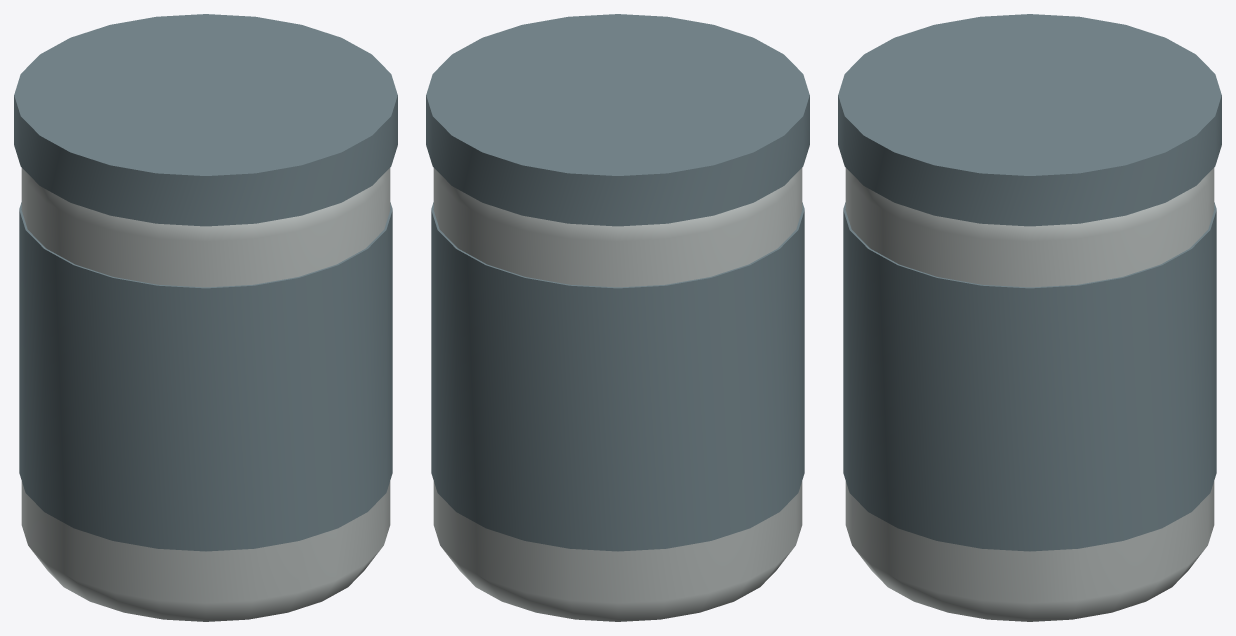
Rendered from protein-tub.glb.
The picture shows the model from 3 angles, left to right: view 1: azimuth 30°, elevation 25°; view 2: azimuth 150°, elevation 25°; view 3: azimuth 270°, elevation 25°; orthographic projection.
Parts seen in each view (by area): view 1: label_band, screw_lid, tub; view 2: label_band, screw_lid, tub; view 3: label_band, screw_lid, tub.
Boxes of the visible parts, x1,y1,x2,y2 form: label_band: [19, 202, 392, 551]; screw_lid: [14, 14, 397, 226]; tub: [21, 168, 390, 621]; label_band: [431, 202, 804, 551]; screw_lid: [426, 14, 809, 226]; tub: [433, 168, 802, 621]; label_band: [843, 202, 1216, 551]; screw_lid: [838, 14, 1221, 226]; tub: [845, 168, 1214, 621].
Size of the model in its own units: 0.152 by 0.2 by 0.152.
